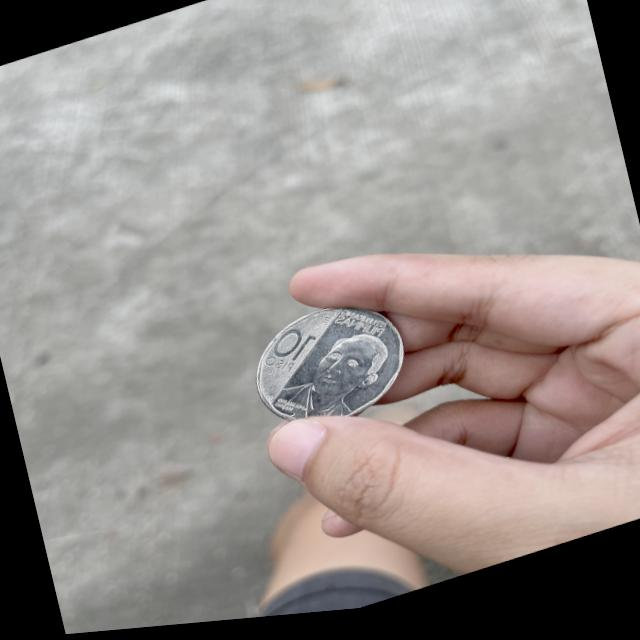10_New_Front: (252, 321, 328, 392)
